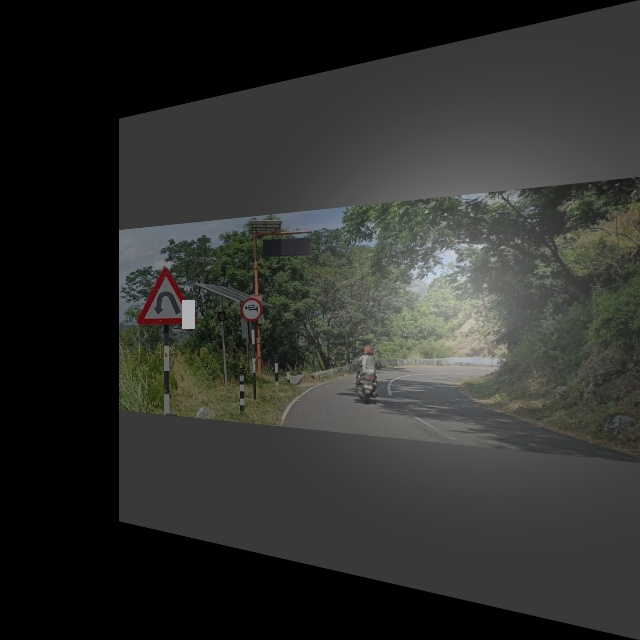Left_Hair_Pin_Bend: (137, 265, 195, 328)
